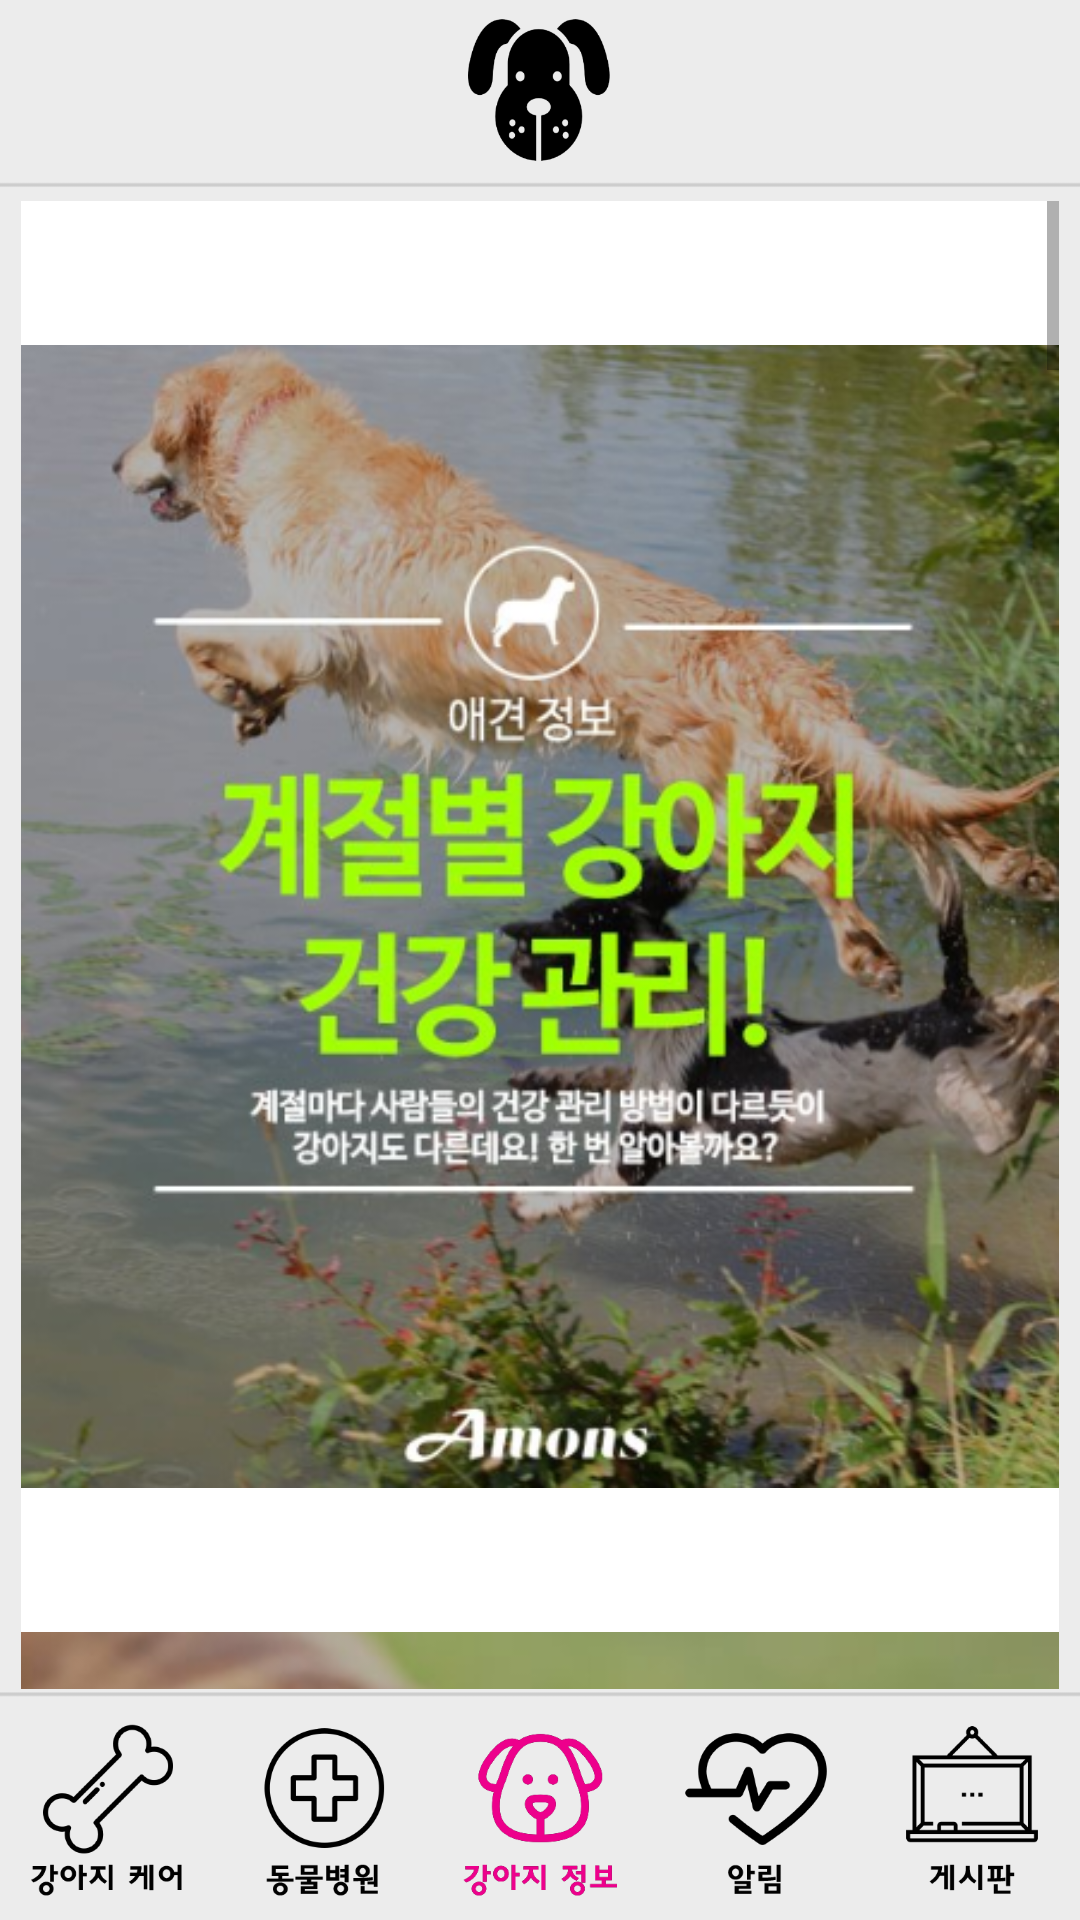

Icon bounding boxes for this 1080 x 1920 phone screenshot, format (x1, y1, x2, y2):
dogdogface: (468, 19, 610, 161)
